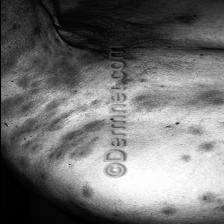Toxin: (8, 50, 102, 163), (138, 73, 220, 163), (0, 1, 40, 110), (102, 196, 224, 218), (155, 0, 196, 29), (66, 24, 136, 38), (80, 182, 100, 196), (62, 0, 90, 6)
